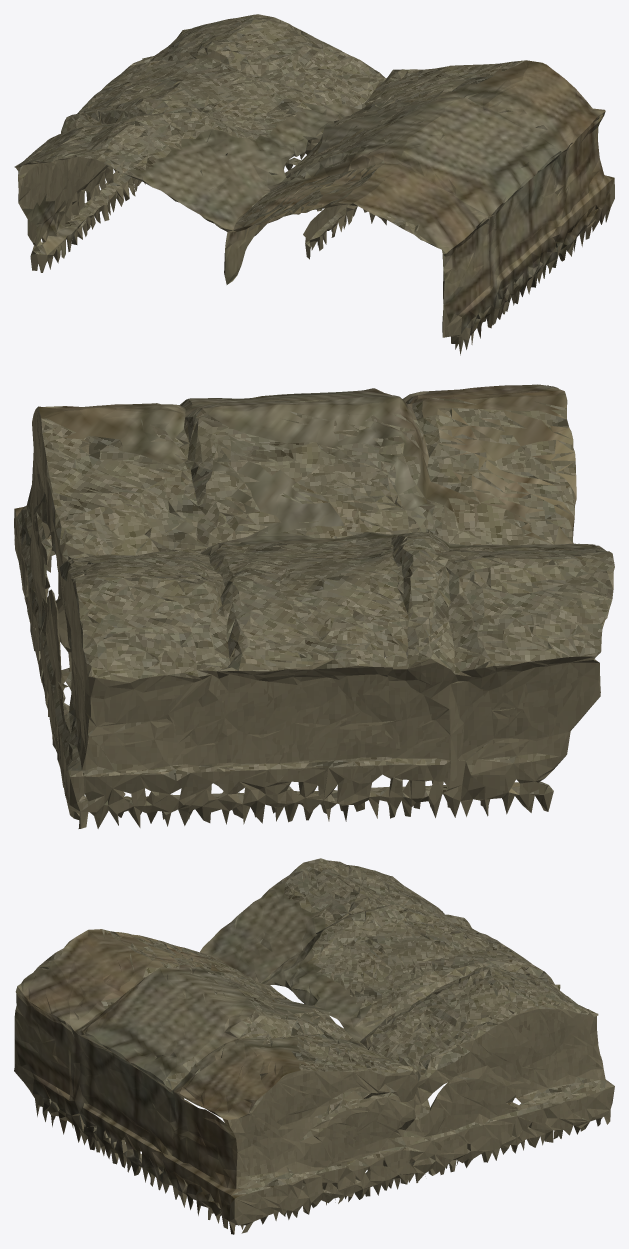
The picture shows the model from 3 angles, top to bottom: view 1: azimuth 30°, elevation 25°; view 2: azimuth 150°, elevation 25°; view 3: azimuth 270°, elevation 25°; orthographic projection. The views are drawn at different scales.
Parts seen in each view (by area): view 1: painted, roof, wall; view 2: roof, wall, painted; view 3: painted, roof, wall.
Part boxes in pixels (<box>): painted: <box>23,60,614,338</box>; roof: <box>14,14,600,295</box>; wall: <box>15,18,614,355</box>; roof: <box>14,385,614,816</box>; wall: <box>14,406,600,828</box>; painted: <box>14,384,598,794</box>; painted: <box>14,882,386,1234</box>; roof: <box>27,858,614,1208</box>; wall: <box>14,890,614,1233</box>.
Bounding box in the file's own units: 4.61 × 1.39 × 4.75.
3 materials, 3 textured.
